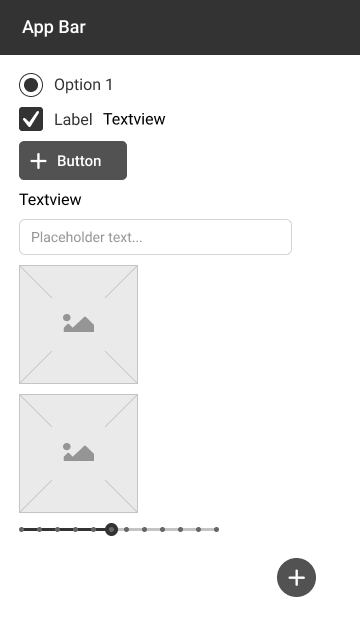buttonImage: (18, 138, 130, 183)
checkBox: (16, 104, 94, 133)
editText: (18, 217, 294, 257)
floatingButton: (276, 558, 317, 597)
imageView: (16, 262, 141, 387), (17, 391, 140, 515)
radioButton: (18, 73, 114, 98)
slider: (16, 523, 222, 537)
textView: (102, 110, 166, 130), (19, 191, 85, 210)
toolbar: (1, 1, 359, 54)
